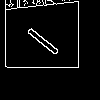I: (24, 24, 69, 64)
